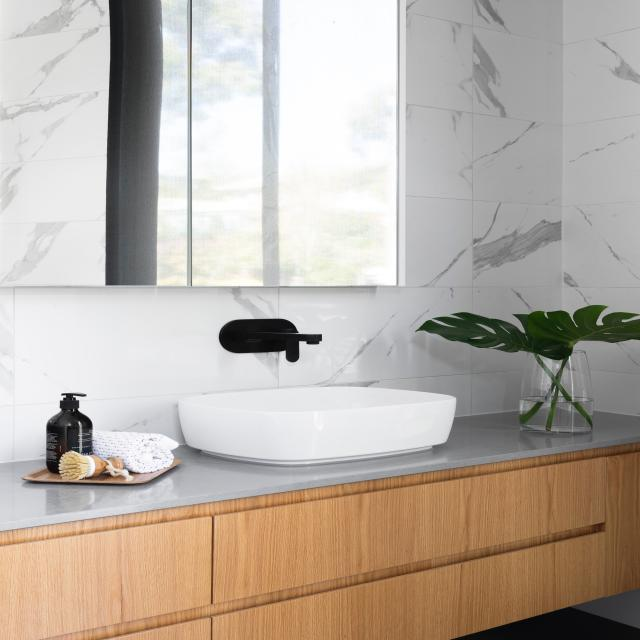floor: (451, 606, 640, 640)
